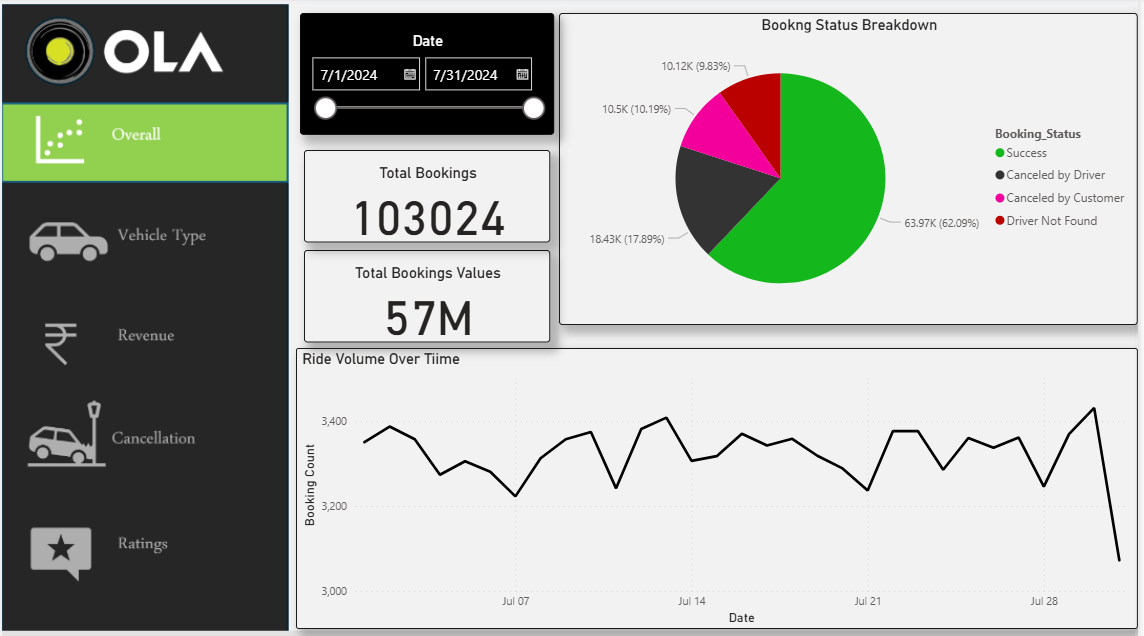

The dashboard page shown, as its layout file describes it:
{"tool":"powerbi","page":{"name":"Overall","canvas":[1280,720],"ordinal":0},"visuals":[{"type":"actionButton","box":[0,222.8,324,92.2],"z":0},{"type":"actionButton","box":[0,335.2,324,92.2],"z":1000},{"type":"actionButton","box":[0,446.6,324,92.2],"z":2000},{"type":"actionButton","box":[0,567,324,92.2],"z":3000},{"type":"lineChart","title":"Ride Volume Over Tiime","fields":{"Category":["July.Date"],"Y":["CountNonNull(July.Booking_ID)"]},"box":[333,393.8,947.2,316.1],"z":4000},{"type":"pieChart","title":"Bookng Status Breakdown","fields":{"Category":["July.Booking_Status"],"Y":["CountNonNull(July.Booking_Status)"]},"box":[628.9,16.9,651.4,351],"z":5000},{"type":"slicer","title":"Date","fields":{"Values":["July.Date"]},"box":[337.5,16.9,285.8,137.2],"z":6000},{"type":"card","title":"Total Bookings","fields":{"Values":["Count(July.Booking_ID)"]},"box":[342,171,276.8,103.5],"z":7000},{"type":"card","title":"Total Bookings Values","fields":{"Values":["Sum(July.Booking_Value)"]},"box":[342,283.5,276.8,103.5],"z":8000}]}

Visuals, with their boxes in screenshot pixels (x1, y1, x2, y2), scaled from the page's 1280x720 canvas onto the 1144x636 screenshot:
actionButton: left=0, top=197, right=290, bottom=278
actionButton: left=0, top=296, right=290, bottom=378
actionButton: left=0, top=394, right=290, bottom=476
actionButton: left=0, top=501, right=290, bottom=582
"Ride Volume Over Tiime" lineChart: left=298, top=348, right=1143, bottom=627
"Bookng Status Breakdown" pieChart: left=562, top=15, right=1143, bottom=325
"Date" slicer: left=302, top=15, right=557, bottom=136
"Total Bookings" card: left=306, top=151, right=553, bottom=242
"Total Bookings Values" card: left=306, top=250, right=553, bottom=342
